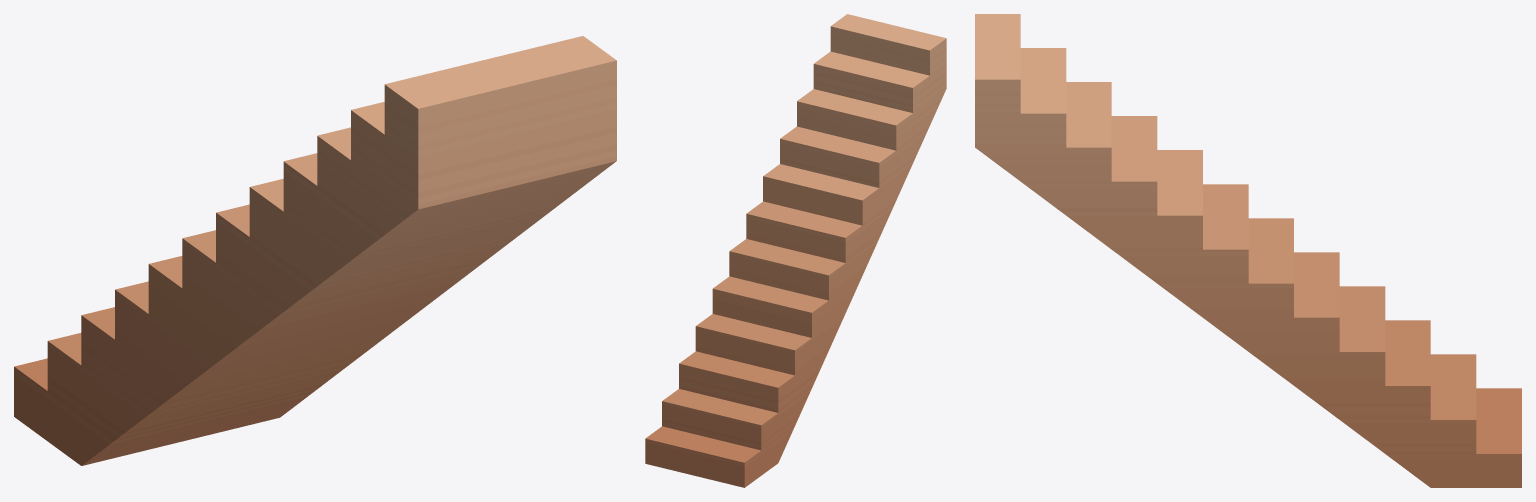
File: stairs-stone.glb
3 renders of one model, left to right at view 1: azimuth 30°, elevation 25°; view 2: azimuth 150°, elevation 25°; view 3: azimuth 270°, elevation 25°, orthographic. The views are drawn at different scales.
Parts seen in each view (by area): view 1: stairs-stone; view 2: stairs-stone; view 3: stairs-stone.
Part boxes in pixels (x1=…): stairs-stone: x1=14, y1=36, x2=616, y2=465; stairs-stone: x1=645, y1=14, x2=946, y2=487; stairs-stone: x1=975, y1=14, x2=1521, y2=487.
Size of the model in its own units: 0.2325 by 0.675 by 0.819.
Materials: 1 (1 with a texture image).
